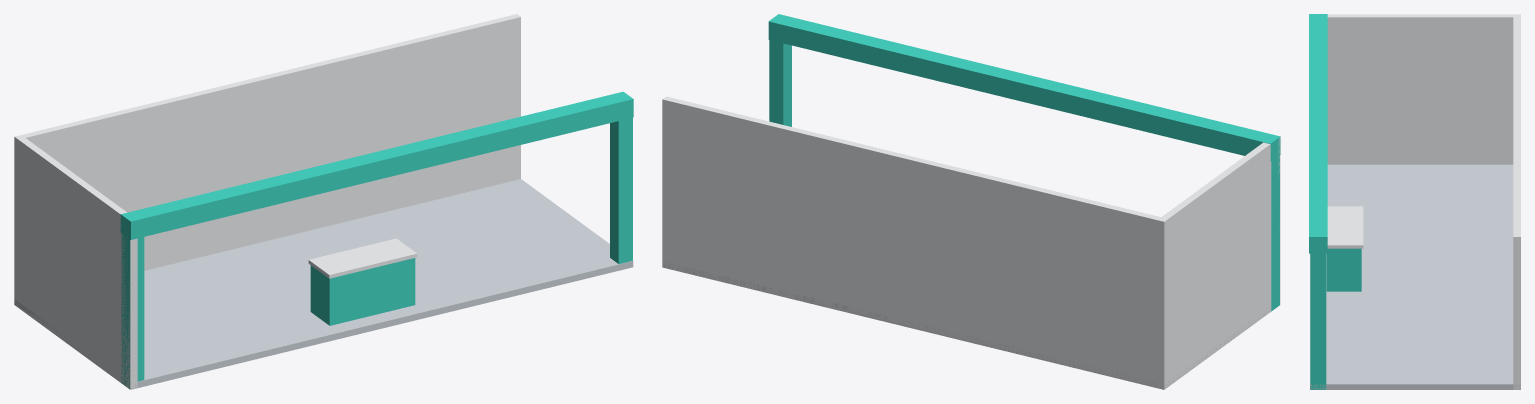
3 renders of one model, left to right at view 1: azimuth 30°, elevation 25°; view 2: azimuth 150°, elevation 25°; view 3: azimuth 270°, elevation 25°, orthographic. The views are drawn at different scales.
Parts seen in each view (by area): view 1: Exhibition Booth Concept; view 2: Exhibition Booth Concept; view 3: Exhibition Booth Concept.
Part boxes in pixels (left/top/right/bottom): Exhibition Booth Concept: left=14, top=14, right=633, bottom=389; Exhibition Booth Concept: left=662, top=14, right=1280, bottom=389; Exhibition Booth Concept: left=1309, top=14, right=1520, bottom=389.
Bounding box in the file's own units: 10 × 3.2 × 4.02.
